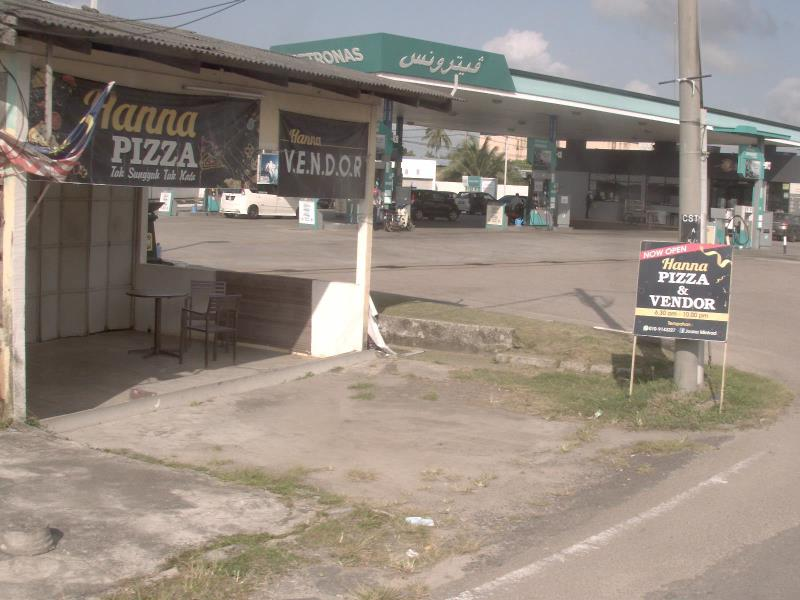ads_sign: (621, 231, 743, 351)
